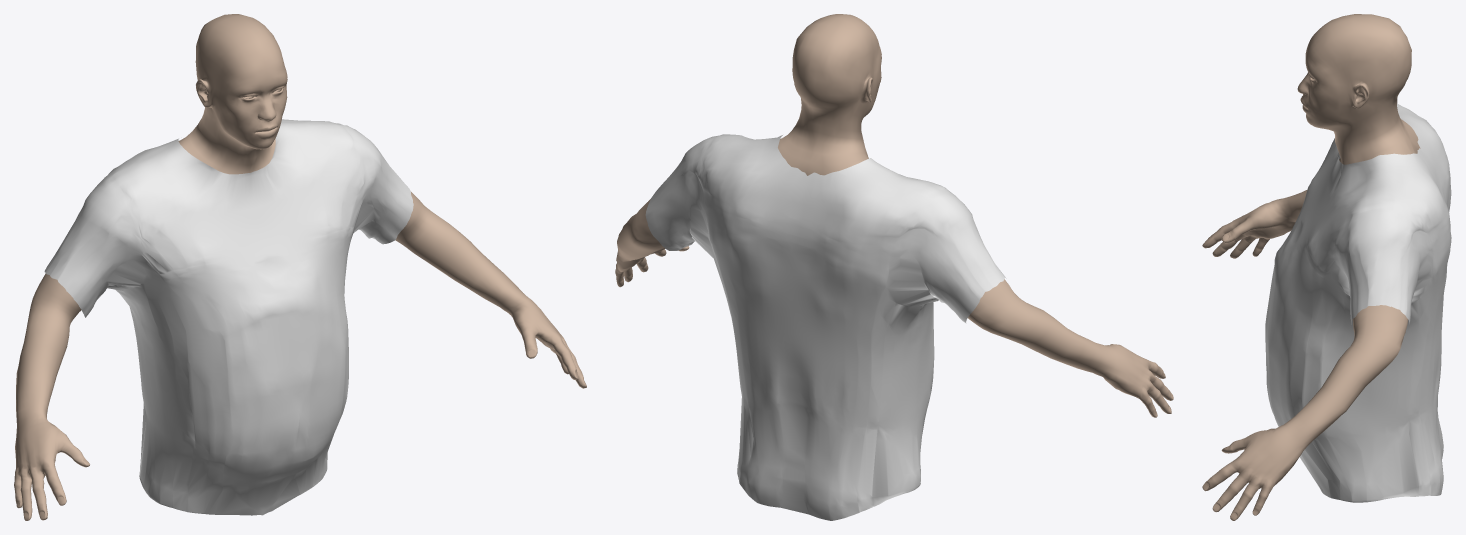
The picture shows the model from 3 angles, left to right: view 1: azimuth 30°, elevation 25°; view 2: azimuth 150°, elevation 25°; view 3: azimuth 270°, elevation 25°; orthographic projection. The views are drawn at different scales.
Parts seen in each view (by area): view 1: Cube, Base; view 2: Cube, Base; view 3: Cube, Base.
Boxes of the visible parts, x1,y1,x2,y2 form: Cube: (44, 119, 413, 515); Base: (14, 14, 586, 520); Cube: (645, 134, 1006, 520); Base: (615, 14, 1173, 417); Cube: (1265, 103, 1451, 502); Base: (1202, 14, 1420, 520).
Size of the model in its own units: 10.56 by 8.61 by 4.21.
